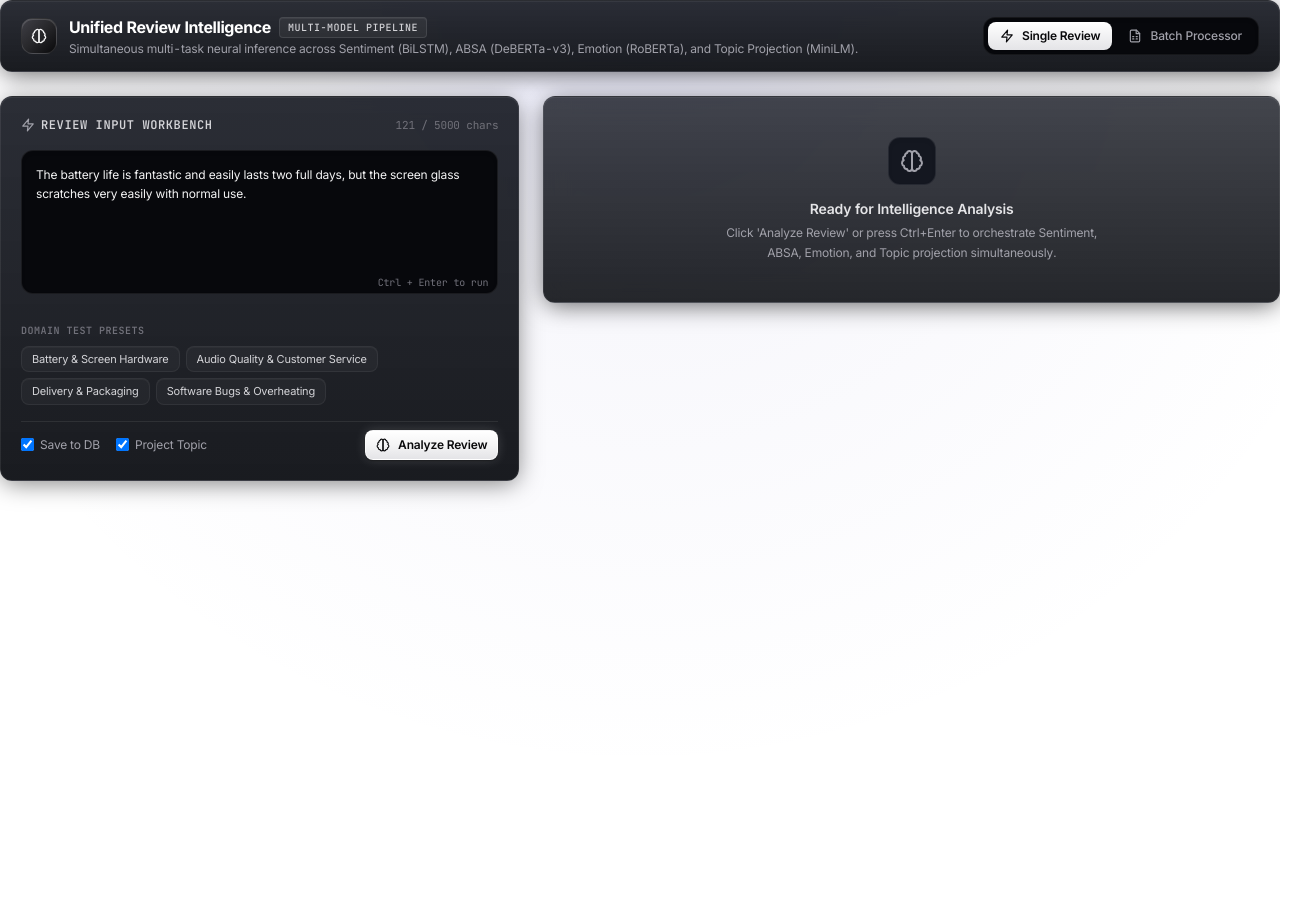
ReviewIntelligence Component › displays Topic Prerequisite Banner when topic discovery run is unavailable
This screenshot has width=1292, height=900.
Later steps or results of the test are not shown.
Click the button "Analyze Review" at (432, 444), box [365,430,498,460]
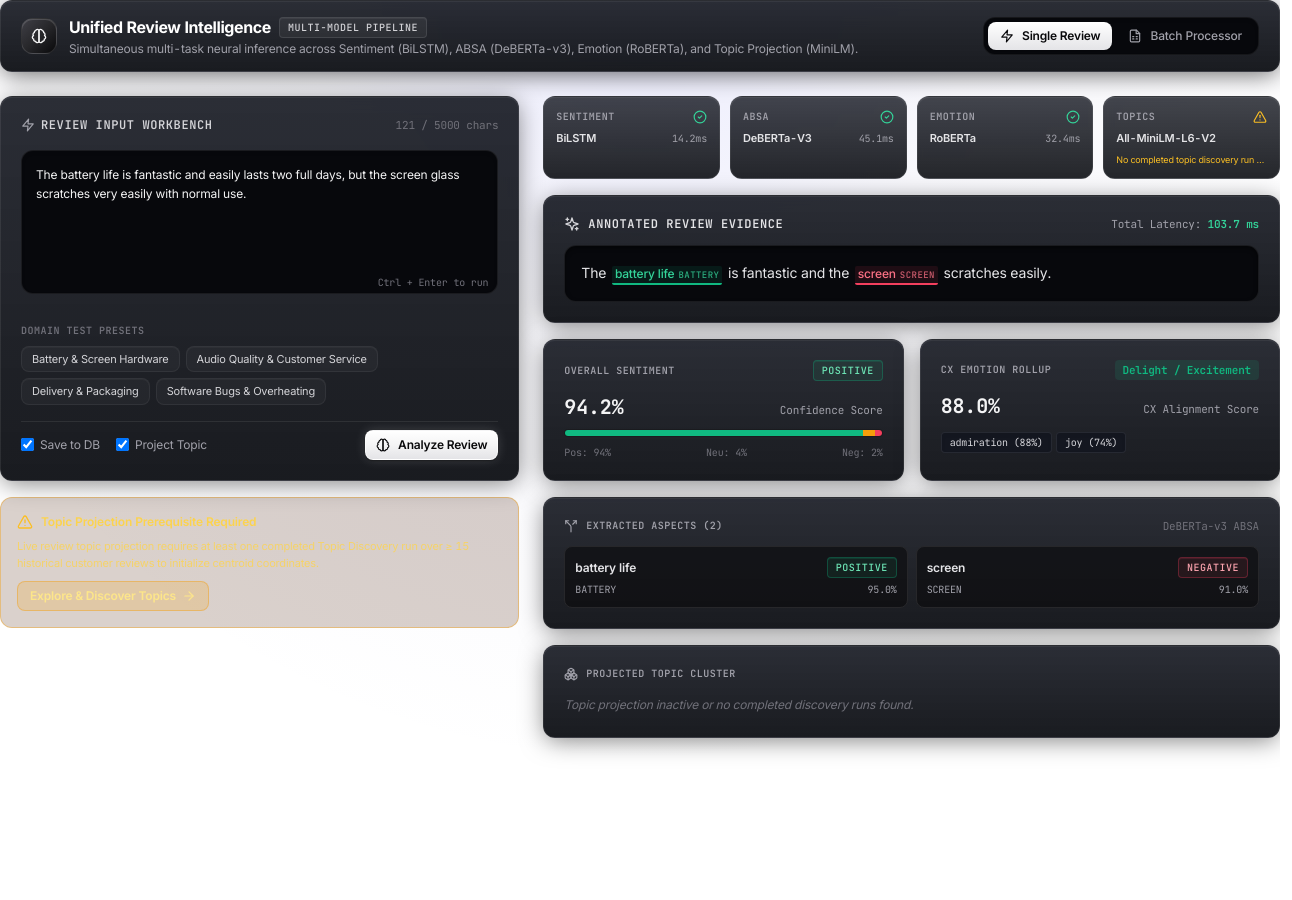
Expected: the text "Topic Projection Prerequisite Required" is shown, [41,514,256,530]
